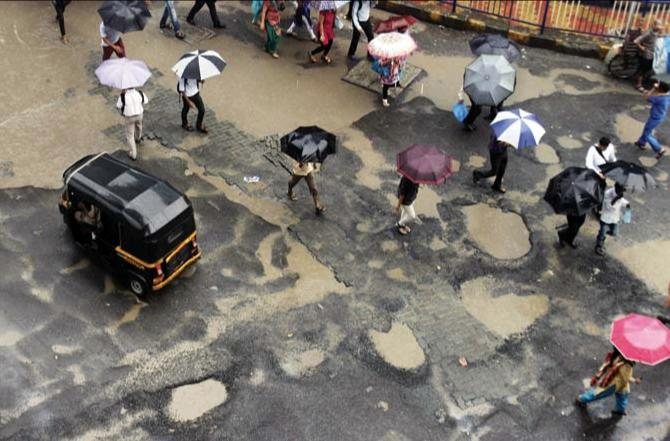pothole: (226, 234, 365, 310), (346, 150, 455, 233), (442, 270, 560, 344), (448, 190, 546, 268), (354, 320, 446, 382), (595, 238, 670, 302), (149, 376, 245, 421), (528, 138, 568, 168), (554, 125, 586, 157)
